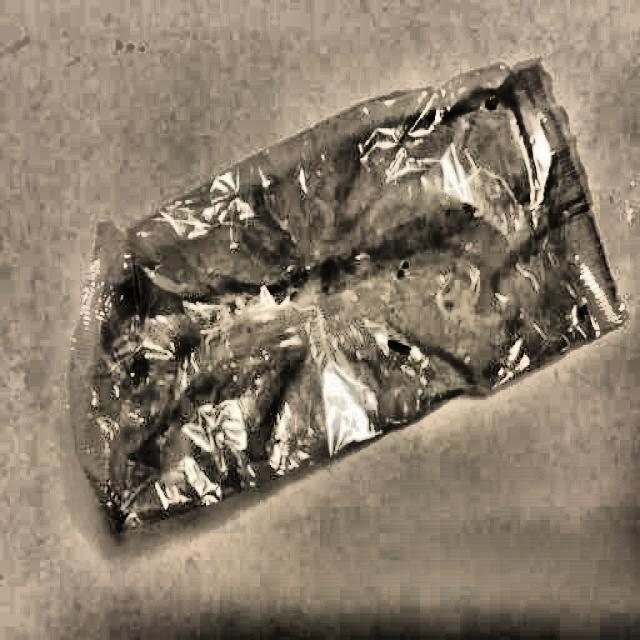trash: (70, 64, 620, 503)
